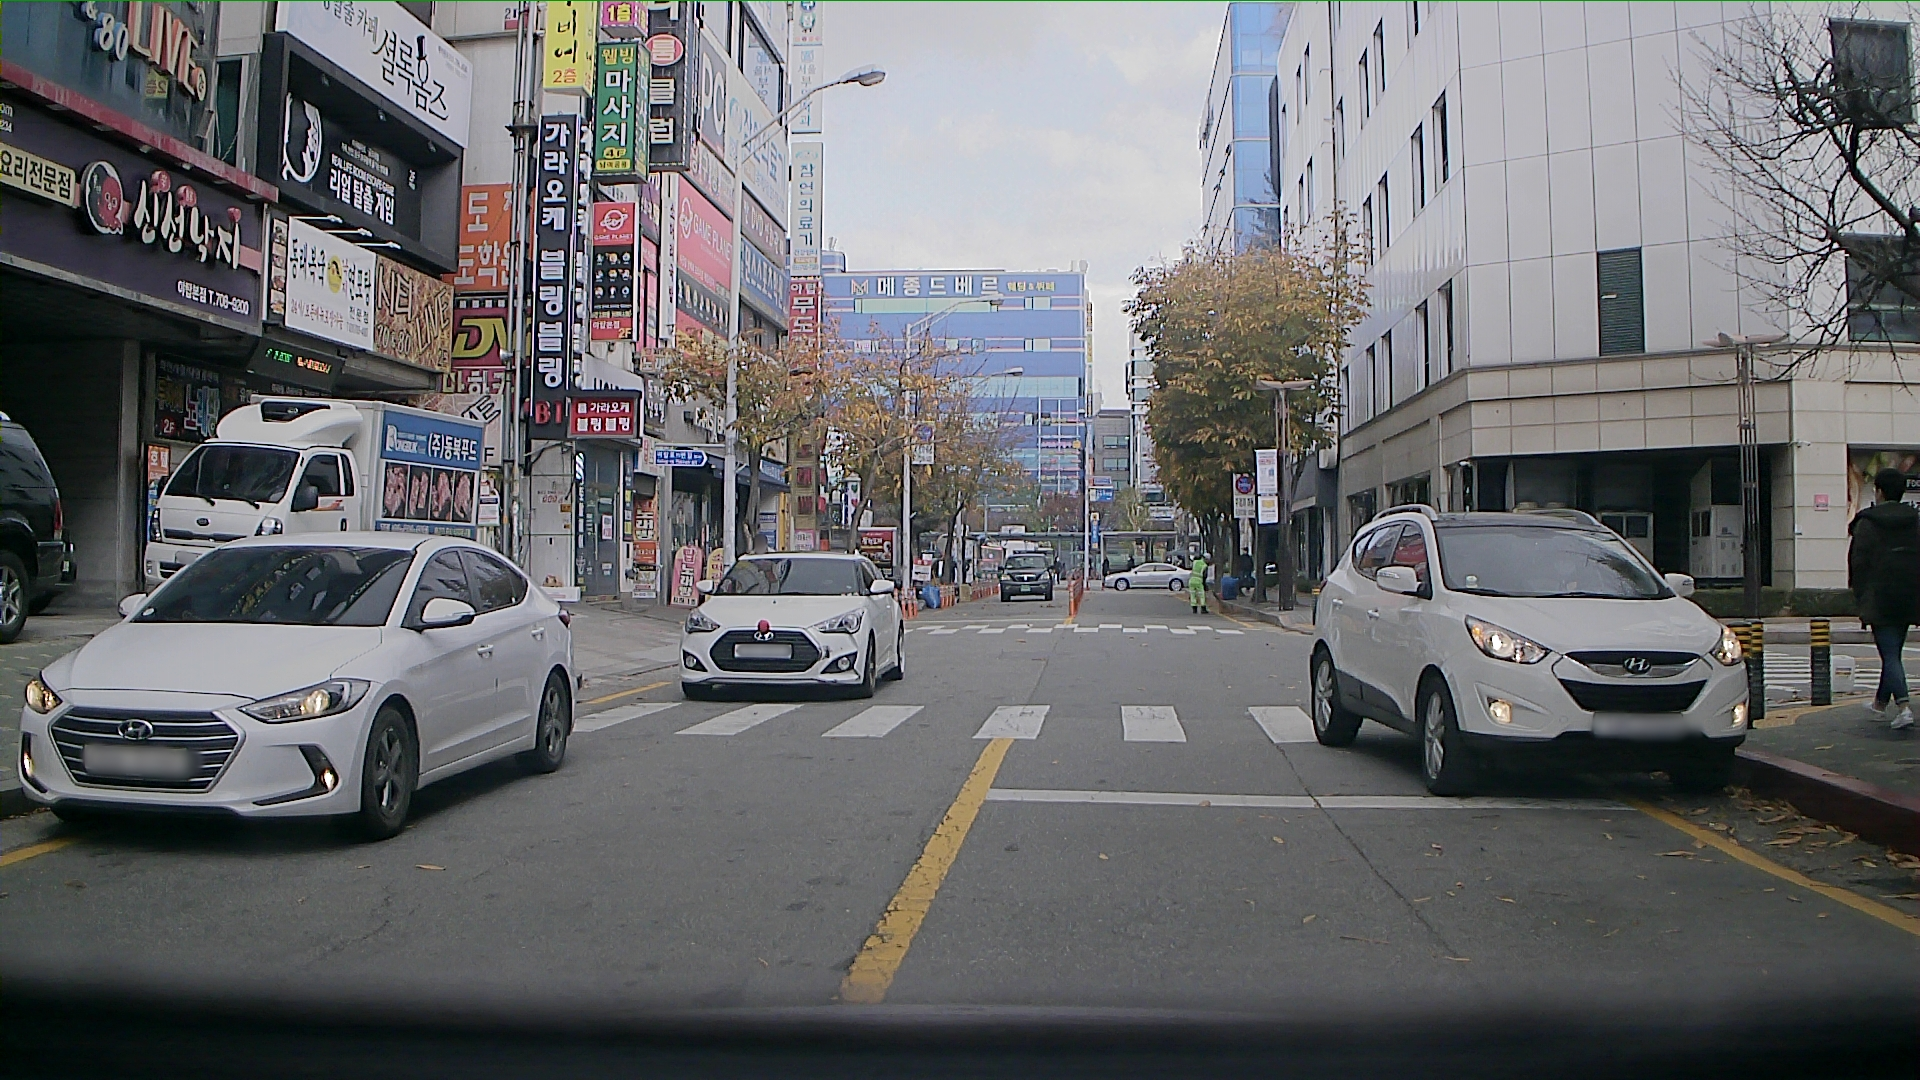trafficSignCircle: (1236, 475, 1255, 492)
